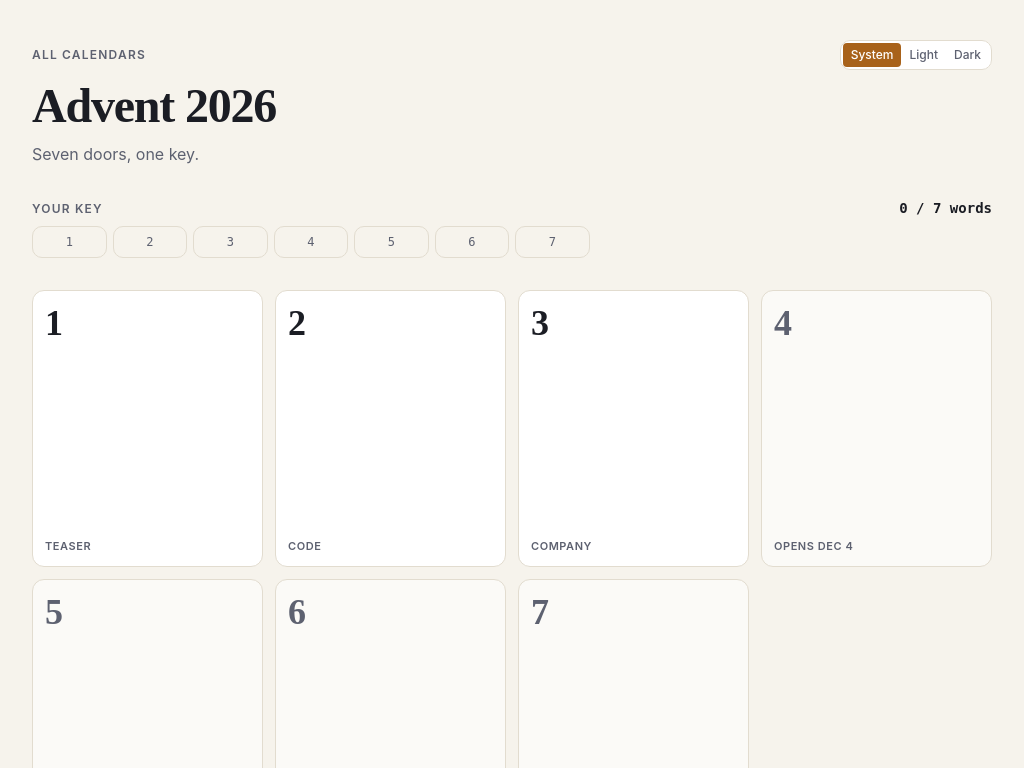
Test case: event page › returns focus to the door when its dialog closes
The image size is (1024, 768).
Click the button with aria-label "Day 2, open": (390, 429) left=275, top=290, right=506, bottom=567
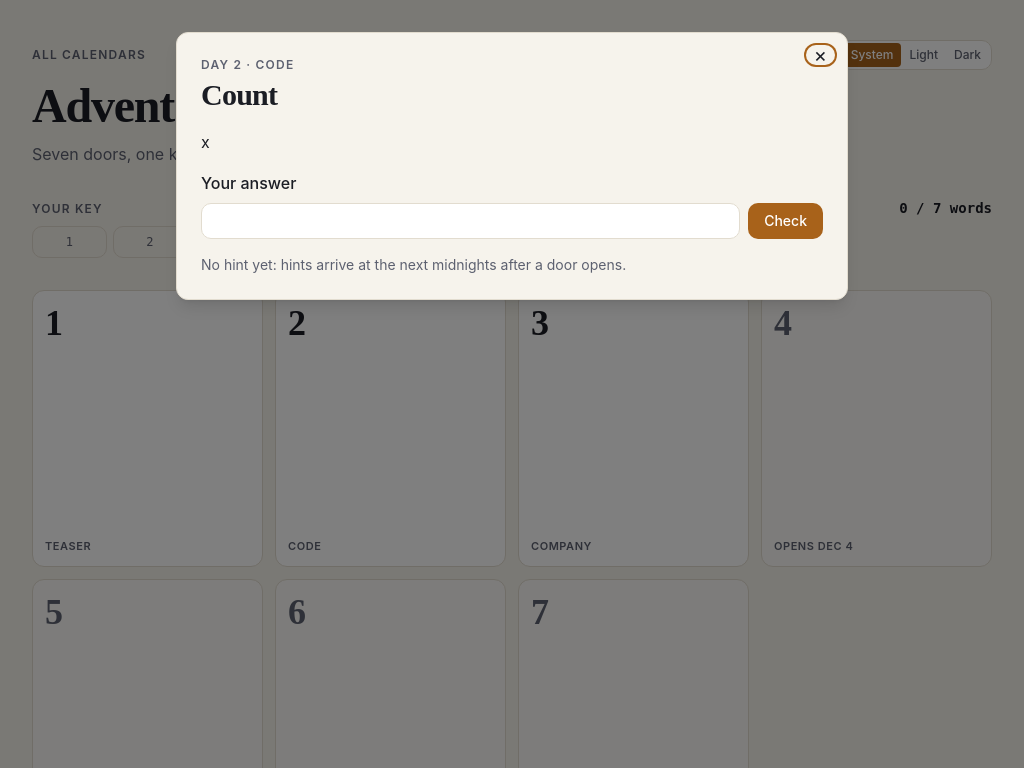
Expected: the dialog "Count" is shown, left=176, top=32, right=848, bottom=300
Press Escape
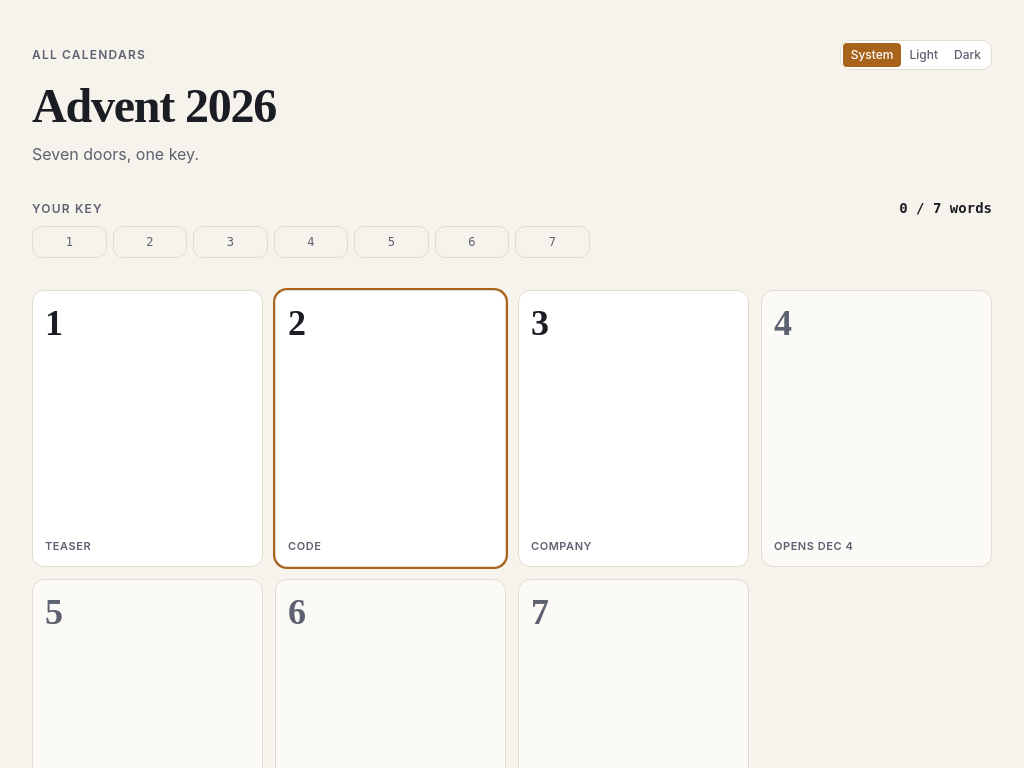
Expected: the dialog is gone
